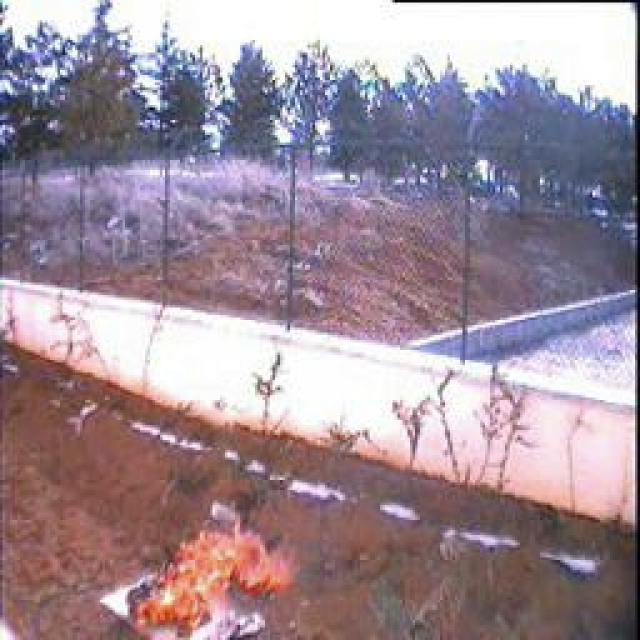Fire: (121, 502, 295, 640)
